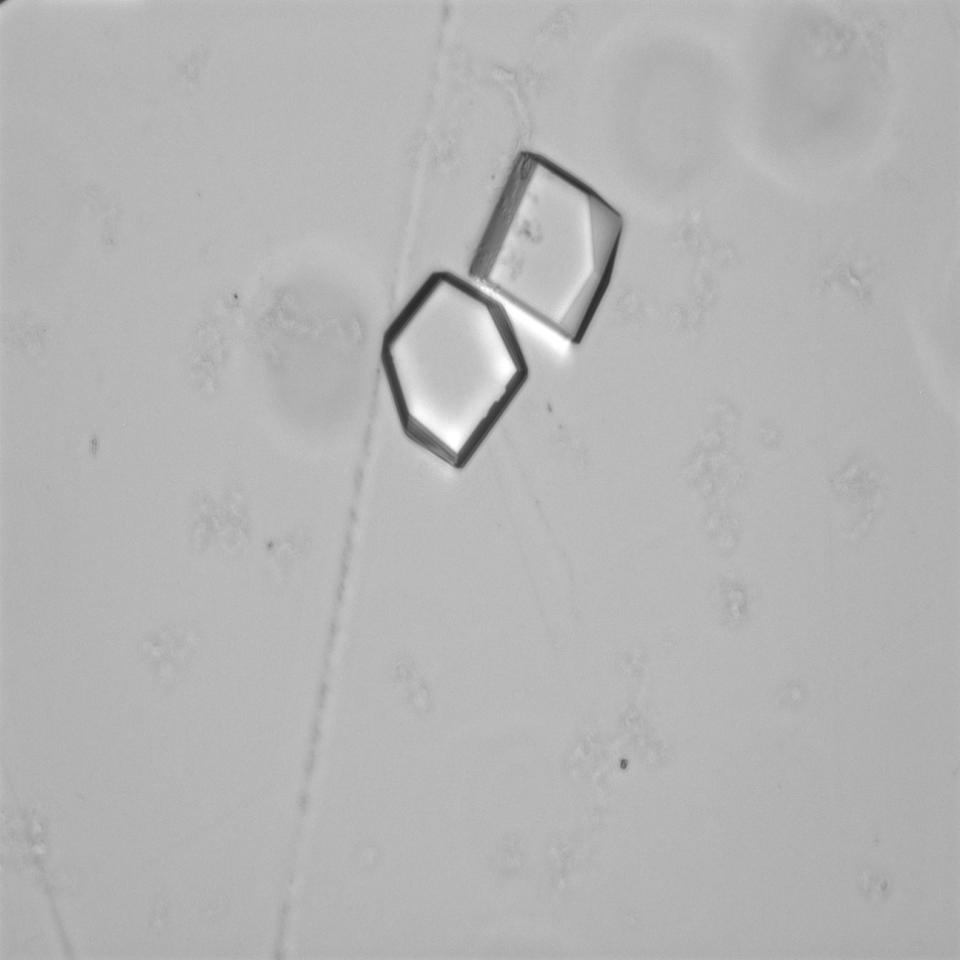crystal: (461, 139, 623, 347), (379, 265, 527, 479)
